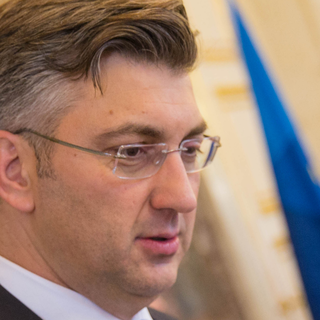eye: (114, 141, 152, 166), (178, 138, 204, 162)
